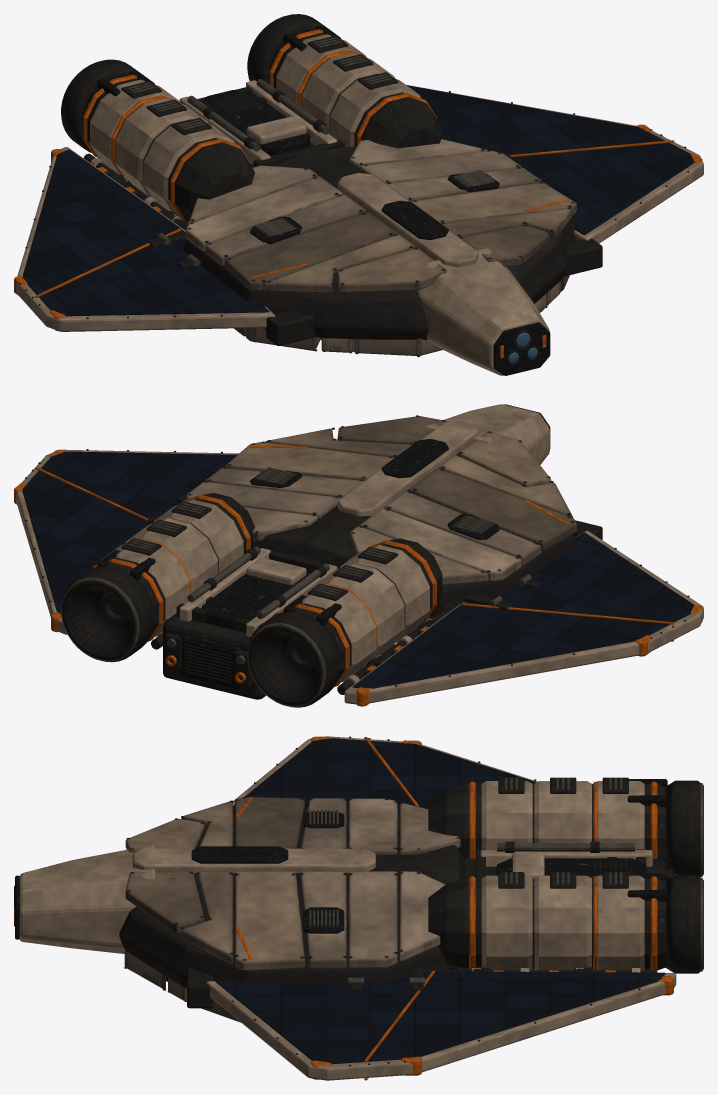
File: starter-survey.glb
3 renders of one model, top to bottom at view 1: azimuth 30°, elevation 25°; view 2: azimuth 150°, elevation 25°; view 3: azimuth 270°, elevation 25°, orthographic. The views are drawn at different scales.
Parts seen in each view (by area): view 1: Hull | Machinery trim finishes, Hull | Coverglass and radiator coating, Hull | Worn hull panels, Hull | Ivory ceramic coating, Hull | Pale ceramic coating; view 2: Hull | Machinery trim finishes, Hull | Coverglass and radiator coating, Hull | Worn hull panels, Hull | Ivory ceramic coating, Hull | Oxidized liner, Hull | Pale ceramic coating, Hull | Carbon refractory throat; view 3: Hull | Machinery trim finishes, Hull | Ivory ceramic coating, Hull | Worn hull panels, Hull | Coverglass and radiator coating, Hull | Pale ceramic coating.
Boxes of the visible parts, bbox=[...] form: Hull | Machinery trim finishes: bbox=[14, 14, 702, 375]; Hull | Coverglass and radiator coating: bbox=[22, 85, 694, 316]; Hull | Worn hull panels: bbox=[186, 139, 576, 355]; Hull | Ivory ceramic coating: bbox=[16, 34, 703, 375]; Hull | Pale ceramic coating: bbox=[90, 80, 337, 221]; Hull | Machinery trim finishes: bbox=[14, 404, 702, 707]; Hull | Coverglass and radiator coating: bbox=[22, 451, 694, 688]; Hull | Worn hull panels: bbox=[186, 416, 576, 585]; Hull | Ivory ceramic coating: bbox=[16, 404, 703, 704]; Hull | Oxidized liner: bbox=[67, 586, 317, 700]; Hull | Pale ceramic coating: bbox=[158, 548, 432, 683]; Hull | Carbon refractory throat: bbox=[99, 591, 316, 670]; Hull | Machinery trim finishes: bbox=[14, 736, 703, 1080]; Hull | Ivory ceramic coating: bbox=[19, 736, 676, 1080]; Hull | Worn hull panels: bbox=[124, 797, 460, 1022]; Hull | Coverglass and radiator coating: bbox=[215, 738, 665, 1064]; Hull | Pale ceramic coating: bbox=[472, 850, 652, 972].
Size of the model in its own units: 9.28 by 1.61 by 8.13.
Materials: 8 (6 with a texture image).
